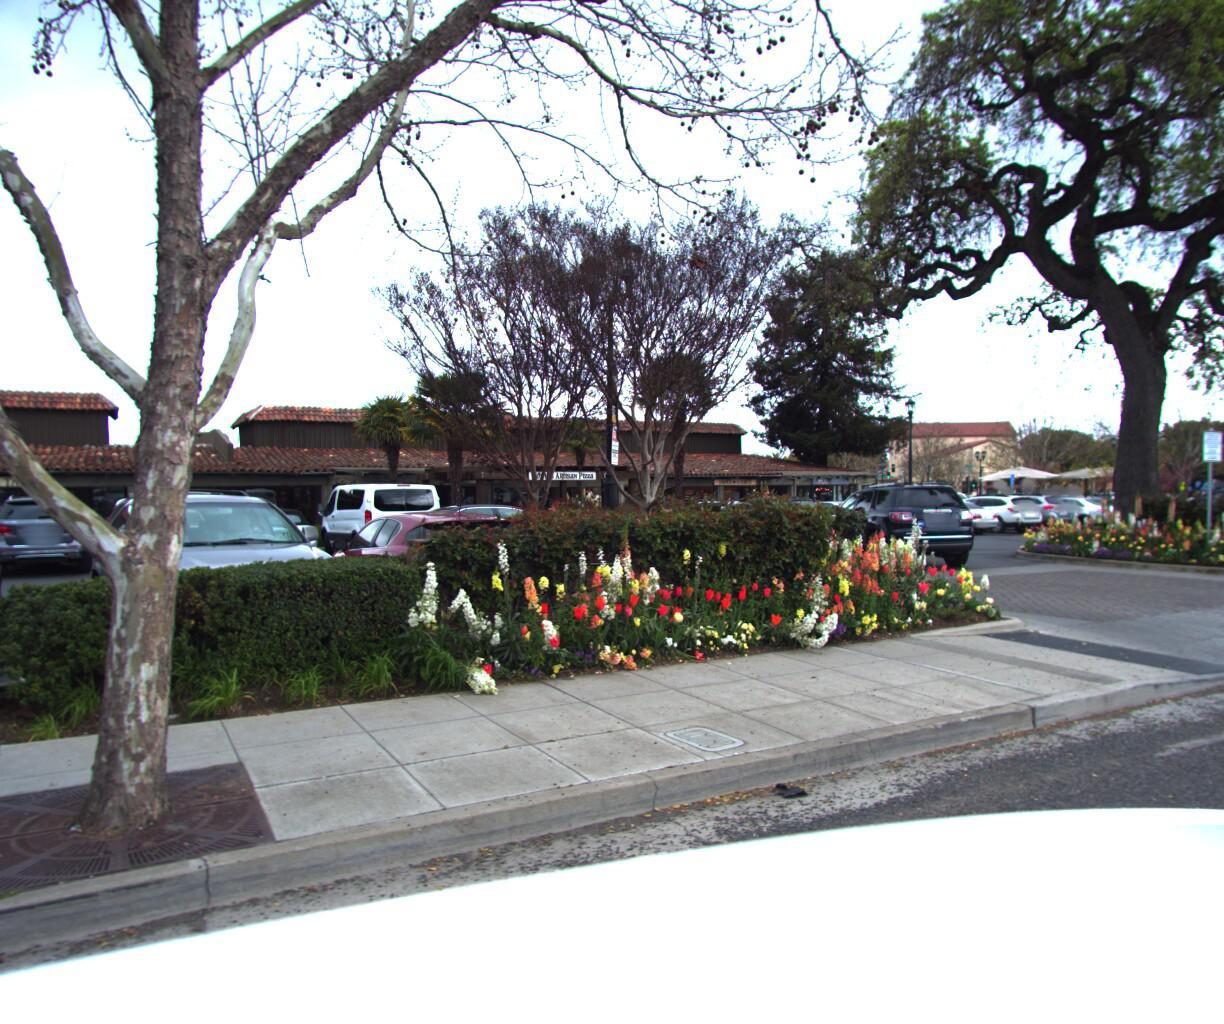car: (65, 483, 366, 684), (312, 507, 549, 648), (806, 484, 992, 575), (1189, 481, 1224, 560), (0, 479, 2, 747)
